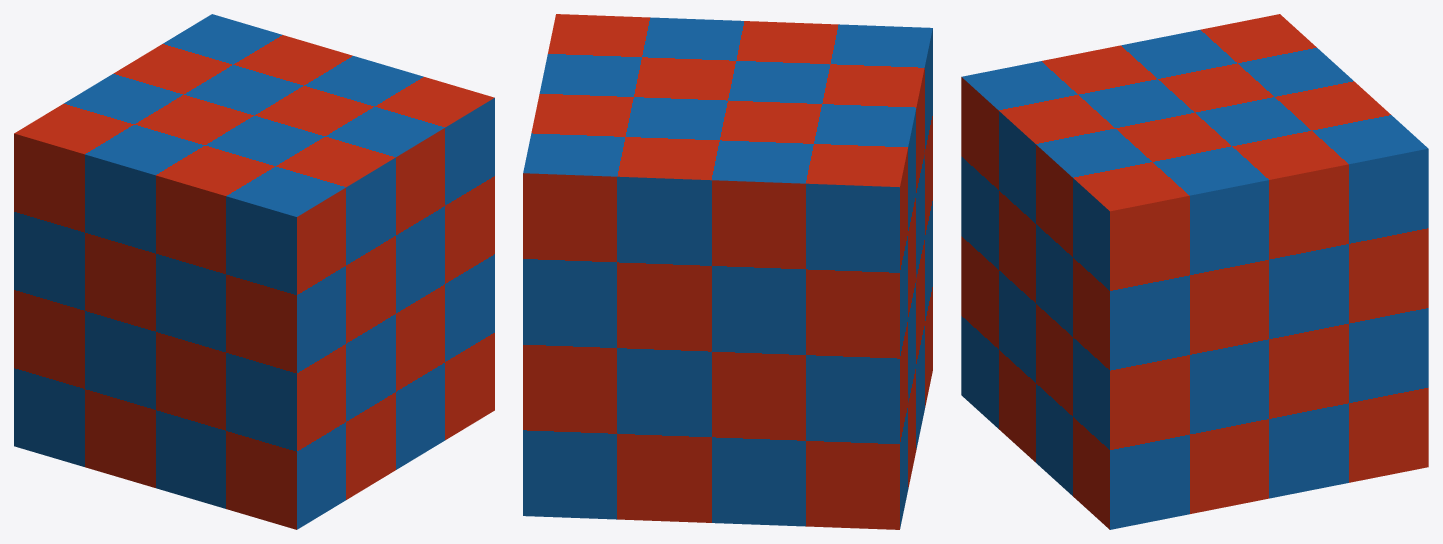
The model's file is learning_cube.gltf.
3 views of the same model, side by side, from view 1: azimuth 30°, elevation 25°; view 2: azimuth 150°, elevation 25°; view 3: azimuth 270°, elevation 25° (orthographic). The views are drawn at different scales.
Visible parts, largest first — view 1: Learning Cube Node; view 2: Learning Cube Node; view 3: Learning Cube Node.
Part boxes in pixels (x1=…): Learning Cube Node: x1=14, y1=14, x2=494, y2=529; Learning Cube Node: x1=523, y1=14, x2=932, y2=529; Learning Cube Node: x1=961, y1=14, x2=1428, y2=529.
Size of the model in its own units: 1.79 by 1.35 by 1.79.
Materials: 1 (1 with a texture image).
